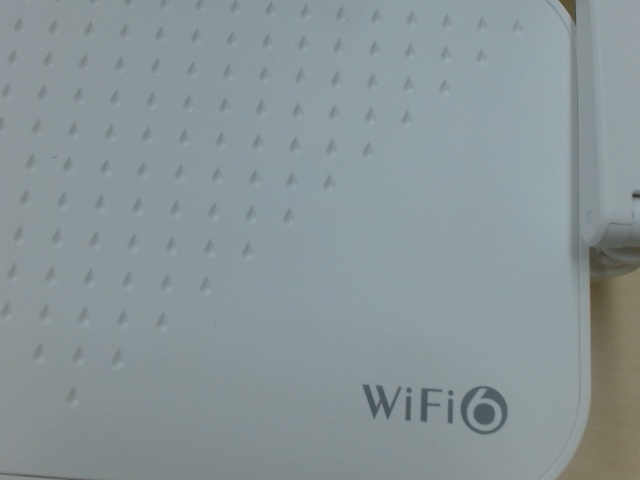AK_ZTEWIFI6: (350, 377, 518, 438)
